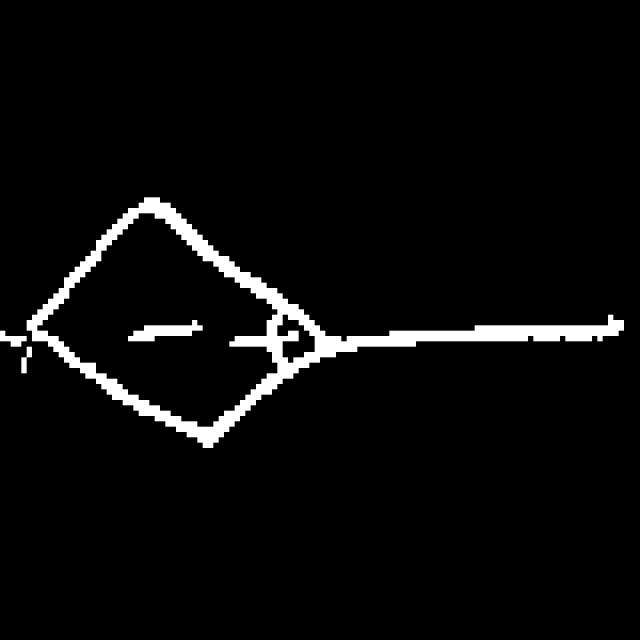dependant_voltage: (24, 186, 323, 459)
